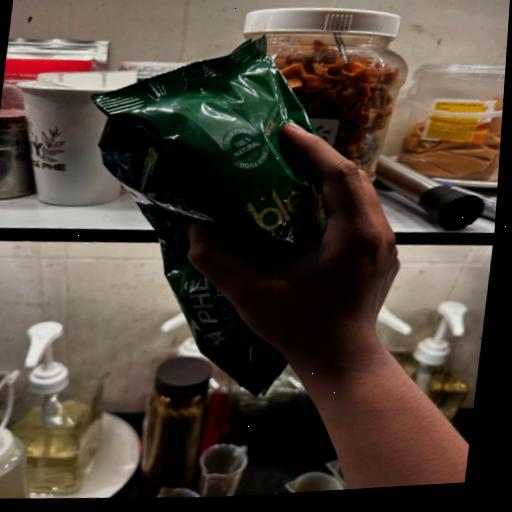cafe_xay: (91, 37, 326, 394)
